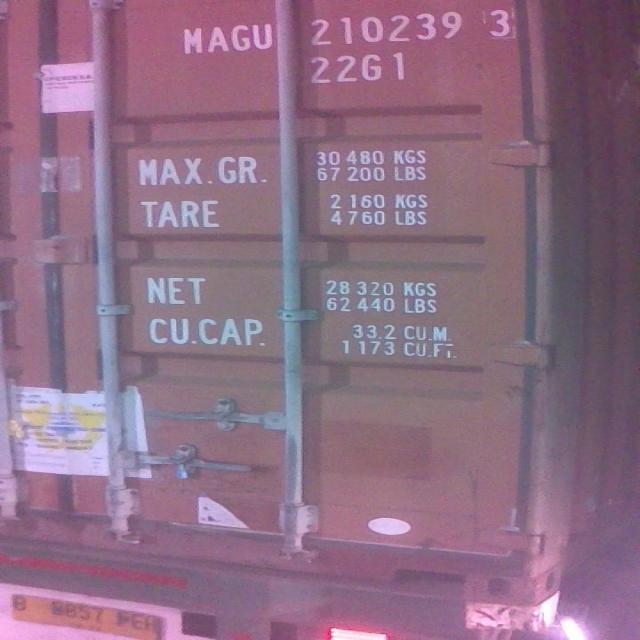seal: (165, 454, 202, 481)
